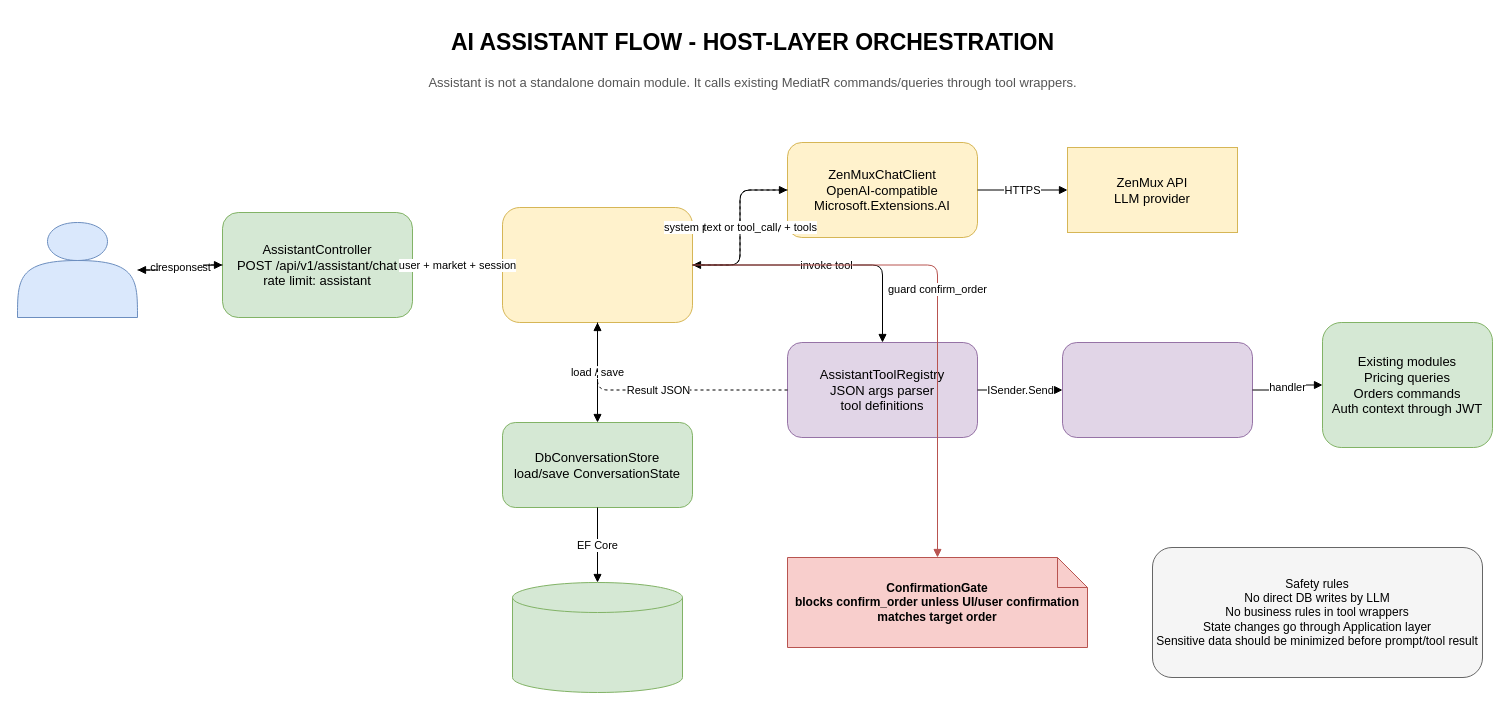
This 1510x710 diagram has some shape labels left out. The centre of each missing label's shape, as x and y in pixels:
"AssistantOrchestrator tool loop max tool hops safety gate" belongs at pixel 597 264.
"MediatR ISender existing commands / queries" belongs at pixel 1157 390.
"PostgreSQL assistant_conversations JSONB state + TTL columns" belongs at pixel 597 637.
"Restaurant user JWT role: restaurant" belongs at pixel 77 270.
